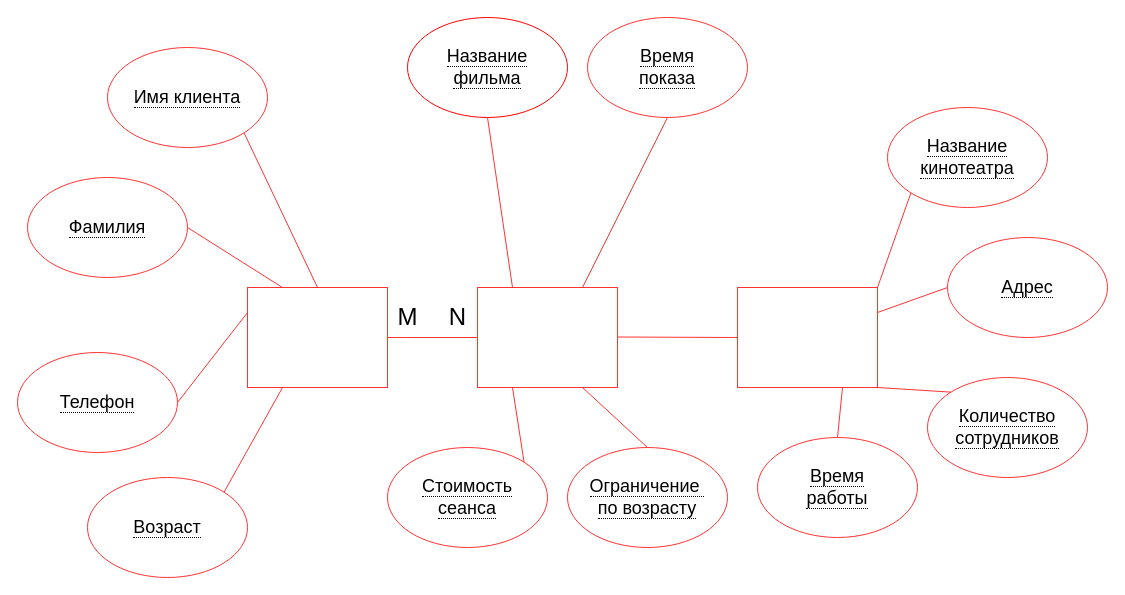
The diagram is 1125 pixels wide and 595 high, and some of its shapes have lost their labels. The centre of each missing label's shape, as x and y in pixels:
"Кинотеатр" belongs at point (807, 337).
"Клиент" belongs at point (317, 337).
"Показ" belongs at point (547, 337).
